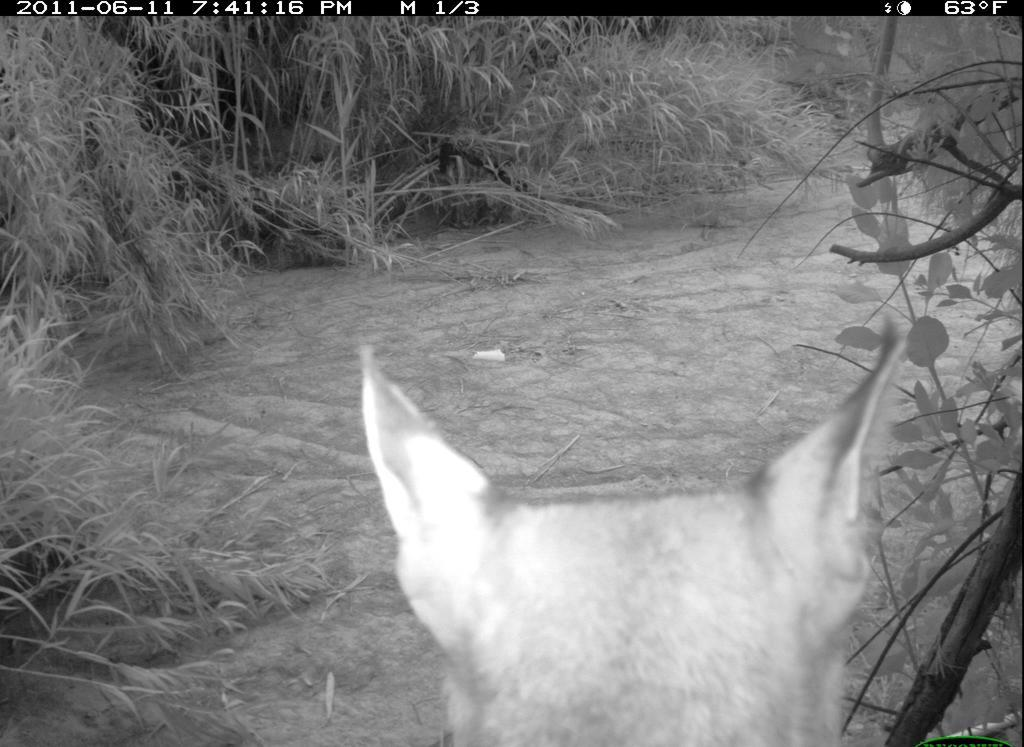bobcat: (336, 340, 925, 747)
